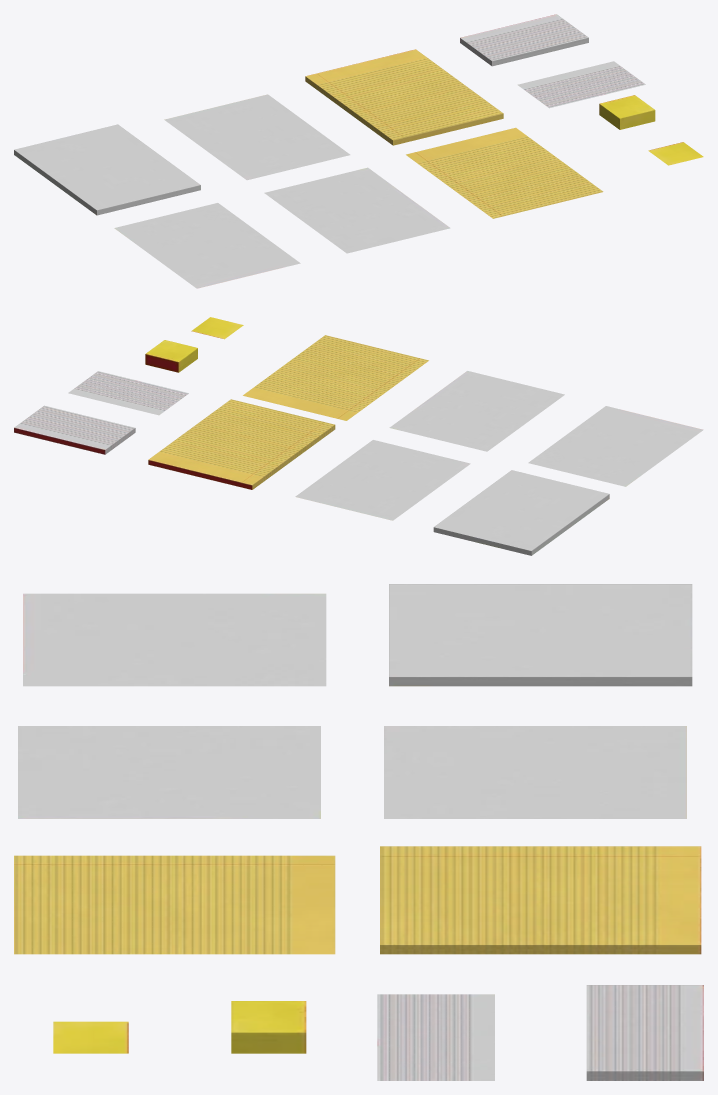
File: notepads.glb
3 views of the same model, one above another, from view 1: azimuth 30°, elevation 25°; view 2: azimuth 150°, elevation 25°; view 3: azimuth 270°, elevation 25° (orthographic). The views are drawn at different scales.
Parts seen in each view (by area): view 1: office_notepads_yellow_sheet; view 2: office_notepads_yellow_sheet; view 3: office_notepads_yellow_sheet.
Boxes of the visible parts, left/top/right/bottom form: office_notepads_yellow_sheet: left=14, top=14, right=703, bottom=288; office_notepads_yellow_sheet: left=14, top=317, right=703, bottom=555; office_notepads_yellow_sheet: left=14, top=584, right=703, bottom=1080.
Bounding box in the file's own units: 1.1 × 0.0219 × 0.6598.
1 material, 1 textured.
